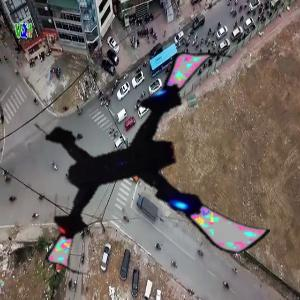drone: (33, 41, 268, 276)
